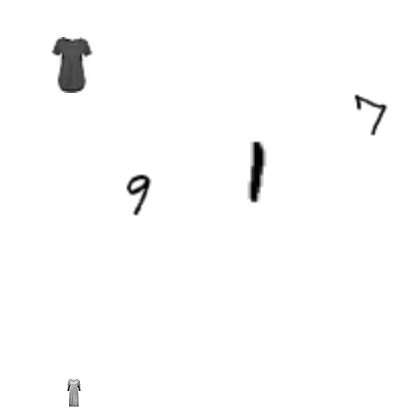1: (212, 127, 296, 211)
7: (343, 81, 399, 137)
9: (111, 161, 167, 217)
Dress: (60, 379, 88, 407)
T-shirt/top: (44, 37, 100, 93)
